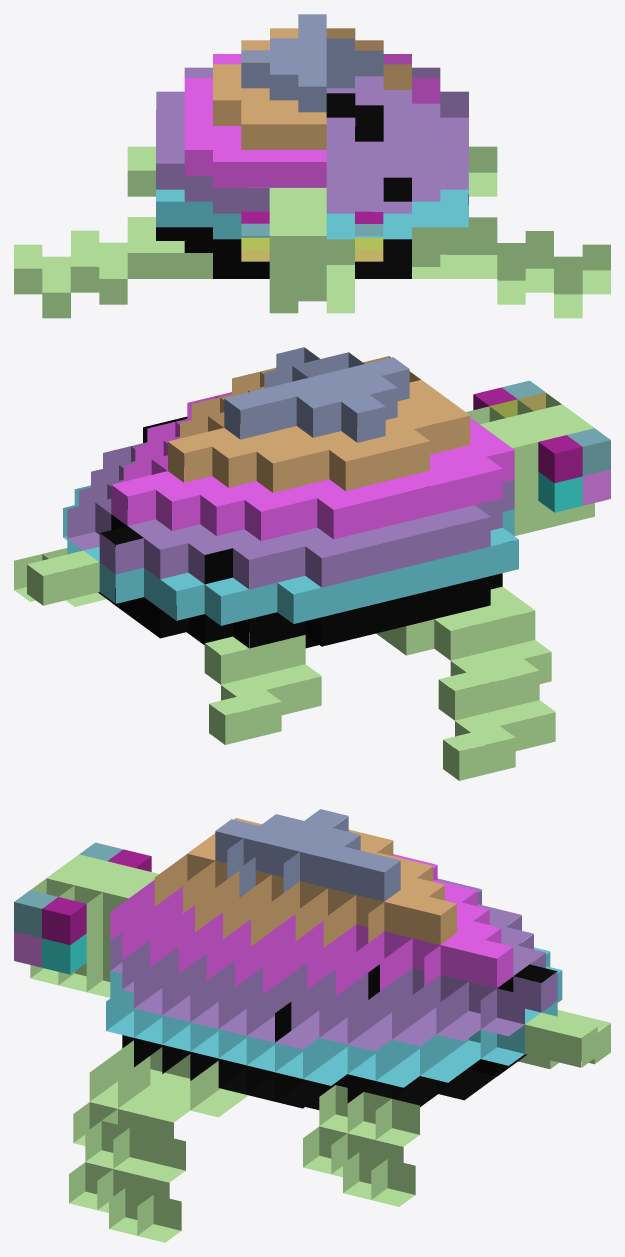
File: seaturtle.glb
3 views of the same model, one above another, from view 1: azimuth 30°, elevation 25°; view 2: azimuth 150°, elevation 25°; view 3: azimuth 270°, elevation 25° (orthographic). The views are drawn at different scales.
Visible parts, largest first — view 1: Fish; view 2: Fish; view 3: Fish.
Part boxes in pixels (left/top/right/bottom): Fish: left=14, top=14, right=610, bottom=318; Fish: left=14, top=347, right=610, bottom=780; Fish: left=14, top=809, right=610, bottom=1242.
Size of the model in its own units: 38.64 by 18.01 by 36.71.
